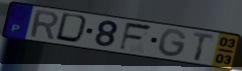8: (93, 19, 120, 48)
D: (53, 11, 92, 45)
F: (117, 21, 154, 52)
G: (157, 28, 189, 59)
R: (29, 9, 60, 42)
T: (191, 31, 216, 62)
